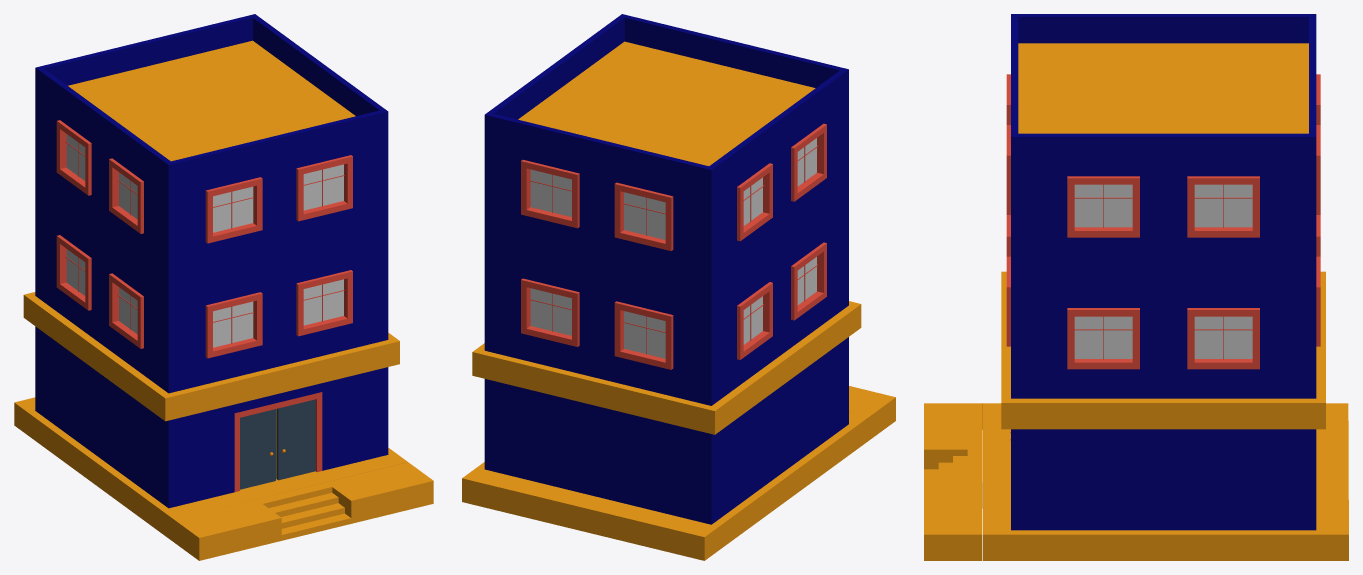
The model's file is build3.fbx.
3 views of the same model, side by side, from view 1: azimuth 30°, elevation 25°; view 2: azimuth 150°, elevation 25°; view 3: azimuth 270°, elevation 25° (orthographic). The views are drawn at different scales.
Parts seen in each view (by area): view 1: BUILD_3; view 2: BUILD_3; view 3: BUILD_3.
Boxes of the visible parts, <box> form: BUILD_3: <box>14,14,433,560</box>; BUILD_3: <box>462,14,895,560</box>; BUILD_3: <box>924,14,1348,560</box>.
Size of the model in its own units: 8416 by 12547 by 11509.
6 materials, 6 textured.
